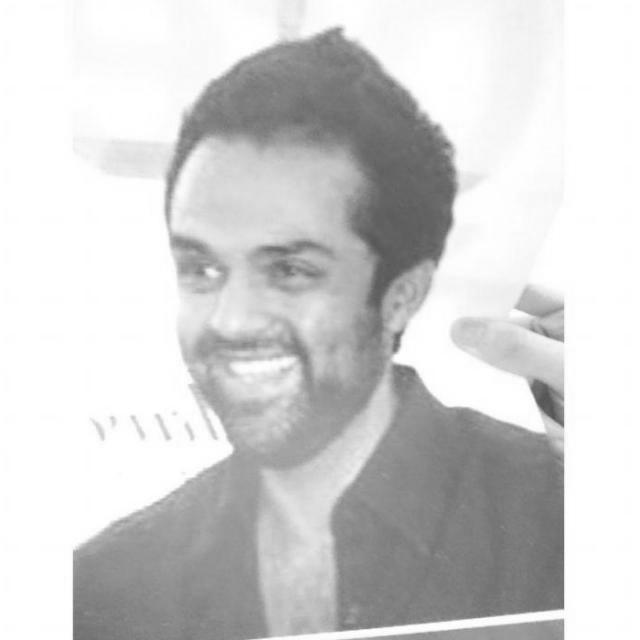fake: (72, 0, 562, 639)
